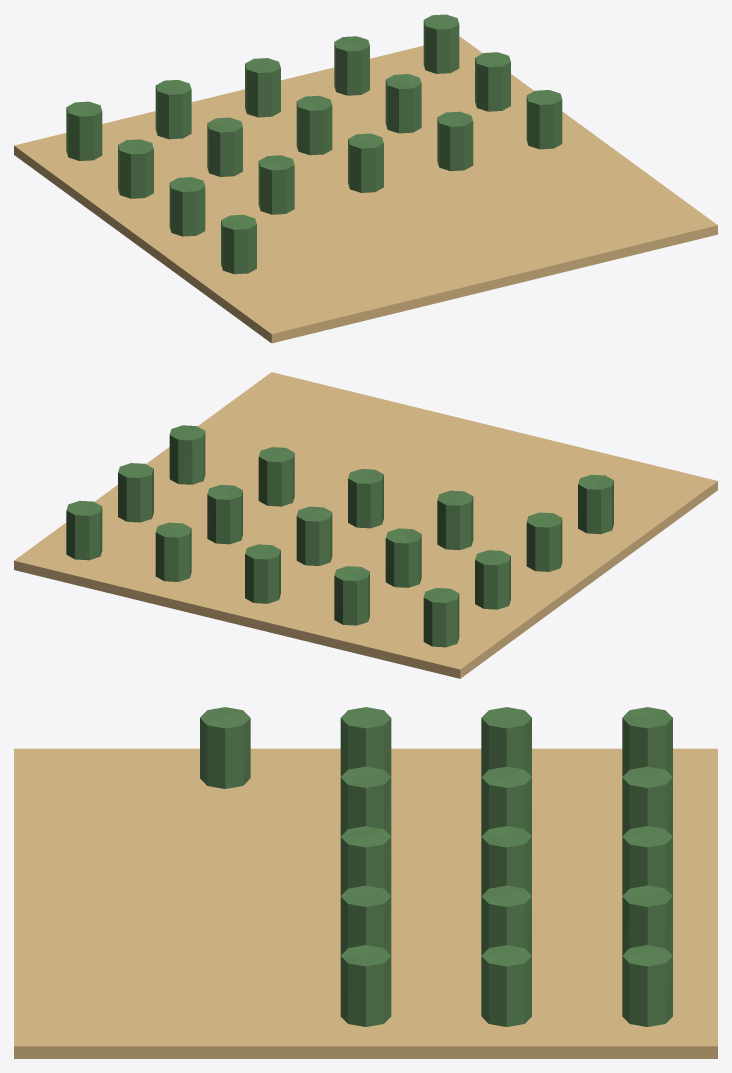
File: pollinator-garden.source.glb
3 renders of one model, top to bottom at view 1: azimuth 30°, elevation 25°; view 2: azimuth 150°, elevation 25°; view 3: azimuth 270°, elevation 25°, orthographic. The views are drawn at different scales.
Visible parts, largest first — view 1: pollinator-garden-ground-mesh, pollinator-garden-plant-10-mesh, pollinator-garden-plant-4-mesh, pollinator-garden-plant-7-mesh, pollinator-garden-plant-11-mesh, pollinator-garden-plant-1-mesh, pollinator-garden-plant-14-mesh, pollinator-garden-plant-0-mesh, pollinator-garden-plant-8-mesh, pollinator-garden-plant-13-mesh, pollinator-garden-plant-9-mesh, pollinator-garden-plant-3-mesh (+5 smaller); view 2: pollinator-garden-ground-mesh, pollinator-garden-plant-10-mesh, pollinator-garden-plant-6-mesh, pollinator-garden-plant-13-mesh, pollinator-garden-plant-14-mesh, pollinator-garden-plant-4-mesh, pollinator-garden-plant-3-mesh, pollinator-garden-plant-7-mesh, pollinator-garden-plant-11-mesh, pollinator-garden-plant-0-mesh, pollinator-garden-plant-2-mesh, pollinator-garden-plant-5-mesh (+5 smaller); view 3: pollinator-garden-ground-mesh, pollinator-garden-plant-14-mesh, pollinator-garden-plant-15-mesh, pollinator-garden-plant-4-mesh, pollinator-garden-plant-9-mesh, pollinator-garden-plant-10-mesh, pollinator-garden-plant-12-mesh, pollinator-garden-plant-11-mesh, pollinator-garden-plant-13-mesh, pollinator-garden-plant-1-mesh, pollinator-garden-plant-3-mesh, pollinator-garden-plant-5-mesh (+5 smaller).
Part boxes in pixels (box(x1,y1,x2,y2)): pollinator-garden-ground-mesh: box(14, 36, 717, 343); pollinator-garden-plant-10-mesh: box(169, 177, 205, 236); pollinator-garden-plant-4-mesh: box(423, 14, 459, 73); pollinator-garden-plant-7-mesh: box(296, 95, 332, 155); pollinator-garden-plant-11-mesh: box(258, 155, 294, 214); pollinator-garden-plant-1-mesh: box(155, 79, 191, 139); pollinator-garden-plant-14-mesh: box(526, 90, 562, 149); pollinator-garden-plant-0-mesh: box(66, 101, 102, 160); pollinator-garden-plant-8-mesh: box(385, 74, 421, 133); pollinator-garden-plant-13-mesh: box(437, 111, 473, 171); pollinator-garden-plant-9-mesh: box(475, 52, 510, 111); pollinator-garden-plant-3-mesh: box(334, 36, 369, 95); pollinator-garden-ground-mesh: box(14, 372, 717, 678); pollinator-garden-plant-10-mesh: box(526, 512, 562, 571); pollinator-garden-plant-6-mesh: box(385, 528, 421, 587); pollinator-garden-plant-13-mesh: box(258, 447, 294, 506); pollinator-garden-plant-14-mesh: box(169, 425, 205, 484); pollinator-garden-plant-4-mesh: box(66, 500, 102, 560); pollinator-garden-plant-3-mesh: box(155, 522, 191, 581); pollinator-garden-plant-7-mesh: box(296, 506, 332, 565); pollinator-garden-plant-11-mesh: box(437, 490, 473, 549); pollinator-garden-plant-0-mesh: box(423, 588, 459, 647); pollinator-garden-plant-2-mesh: box(245, 544, 280, 603); pollinator-garden-plant-5-mesh: box(475, 550, 510, 609); pollinator-garden-ground-mesh: box(14, 748, 717, 1058); pollinator-garden-plant-14-mesh: box(340, 945, 391, 1026); pollinator-garden-plant-15-mesh: box(200, 707, 250, 788); pollinator-garden-plant-4-mesh: box(622, 945, 672, 1026); pollinator-garden-plant-9-mesh: box(481, 945, 531, 1026); pollinator-garden-plant-10-mesh: box(340, 707, 391, 776); pollinator-garden-plant-12-mesh: box(340, 826, 391, 895); pollinator-garden-plant-11-mesh: box(340, 766, 391, 836); pollinator-garden-plant-13-mesh: box(340, 885, 391, 955); pollinator-garden-plant-1-mesh: box(622, 766, 672, 836); pollinator-garden-plant-3-mesh: box(622, 885, 672, 955); pollinator-garden-plant-5-mesh: box(481, 707, 531, 776).
Size of the model in its own units: 5 by 0.575 by 5.
